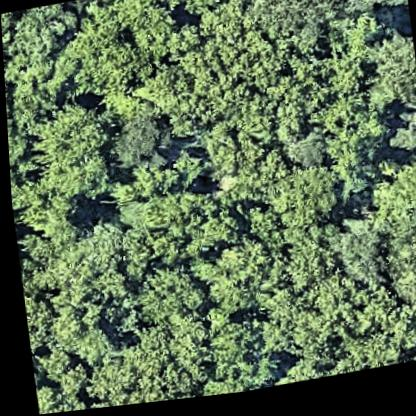tree-top: (172, 25, 308, 165), (266, 279, 393, 389), (10, 200, 122, 316), (54, 9, 142, 105), (26, 104, 112, 201), (0, 4, 75, 110), (81, 335, 174, 410), (306, 29, 388, 113), (310, 108, 384, 188), (118, 192, 199, 264), (200, 240, 273, 319), (168, 314, 243, 390), (114, 150, 209, 207), (129, 266, 204, 337), (197, 321, 267, 395), (264, 167, 339, 236), (361, 36, 416, 130), (245, 0, 338, 54), (120, 0, 187, 73), (103, 111, 172, 176), (376, 225, 416, 325), (49, 303, 108, 367), (323, 220, 380, 286), (29, 352, 88, 415), (156, 313, 209, 382), (364, 168, 416, 235), (189, 210, 238, 259), (379, 303, 416, 366), (259, 361, 331, 393), (280, 142, 329, 187), (20, 292, 51, 361), (166, 0, 241, 27), (182, 375, 253, 402), (6, 119, 32, 186), (386, 119, 416, 175), (324, 0, 388, 26), (32, 391, 86, 415), (1, 12, 18, 69), (375, 0, 407, 12)
